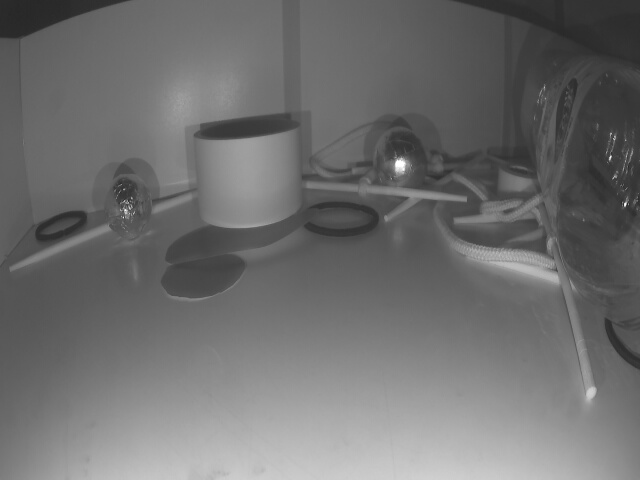Live: (370, 127, 425, 192), (105, 179, 153, 238)
